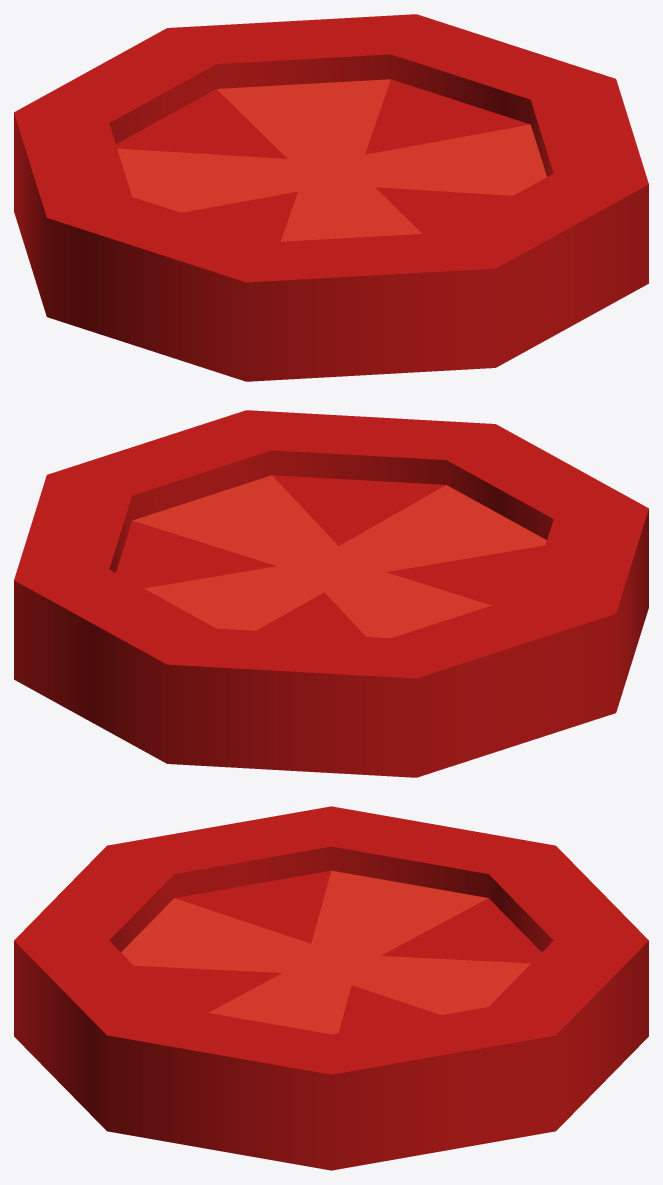
The model's file is tomatoSlice.fbx.
The picture shows the model from 3 angles, top to bottom: view 1: azimuth 30°, elevation 25°; view 2: azimuth 150°, elevation 25°; view 3: azimuth 270°, elevation 25°; orthographic projection. The views are drawn at different scales.
Visible parts, largest first — view 1: tomatoSlice, redLight; view 2: tomatoSlice, redLight; view 3: tomatoSlice, redLight.
Part boxes in pixels (bbox=[...]): tomatoSlice: bbox=[14, 14, 648, 381]; redLight: bbox=[117, 79, 546, 241]; tomatoSlice: bbox=[14, 410, 648, 777]; redLight: bbox=[132, 475, 546, 638]; tomatoSlice: bbox=[14, 806, 648, 1170]; redLight: bbox=[121, 870, 530, 1034].
Size of the model in its own units: 0.18 by 0.03 by 0.18.
